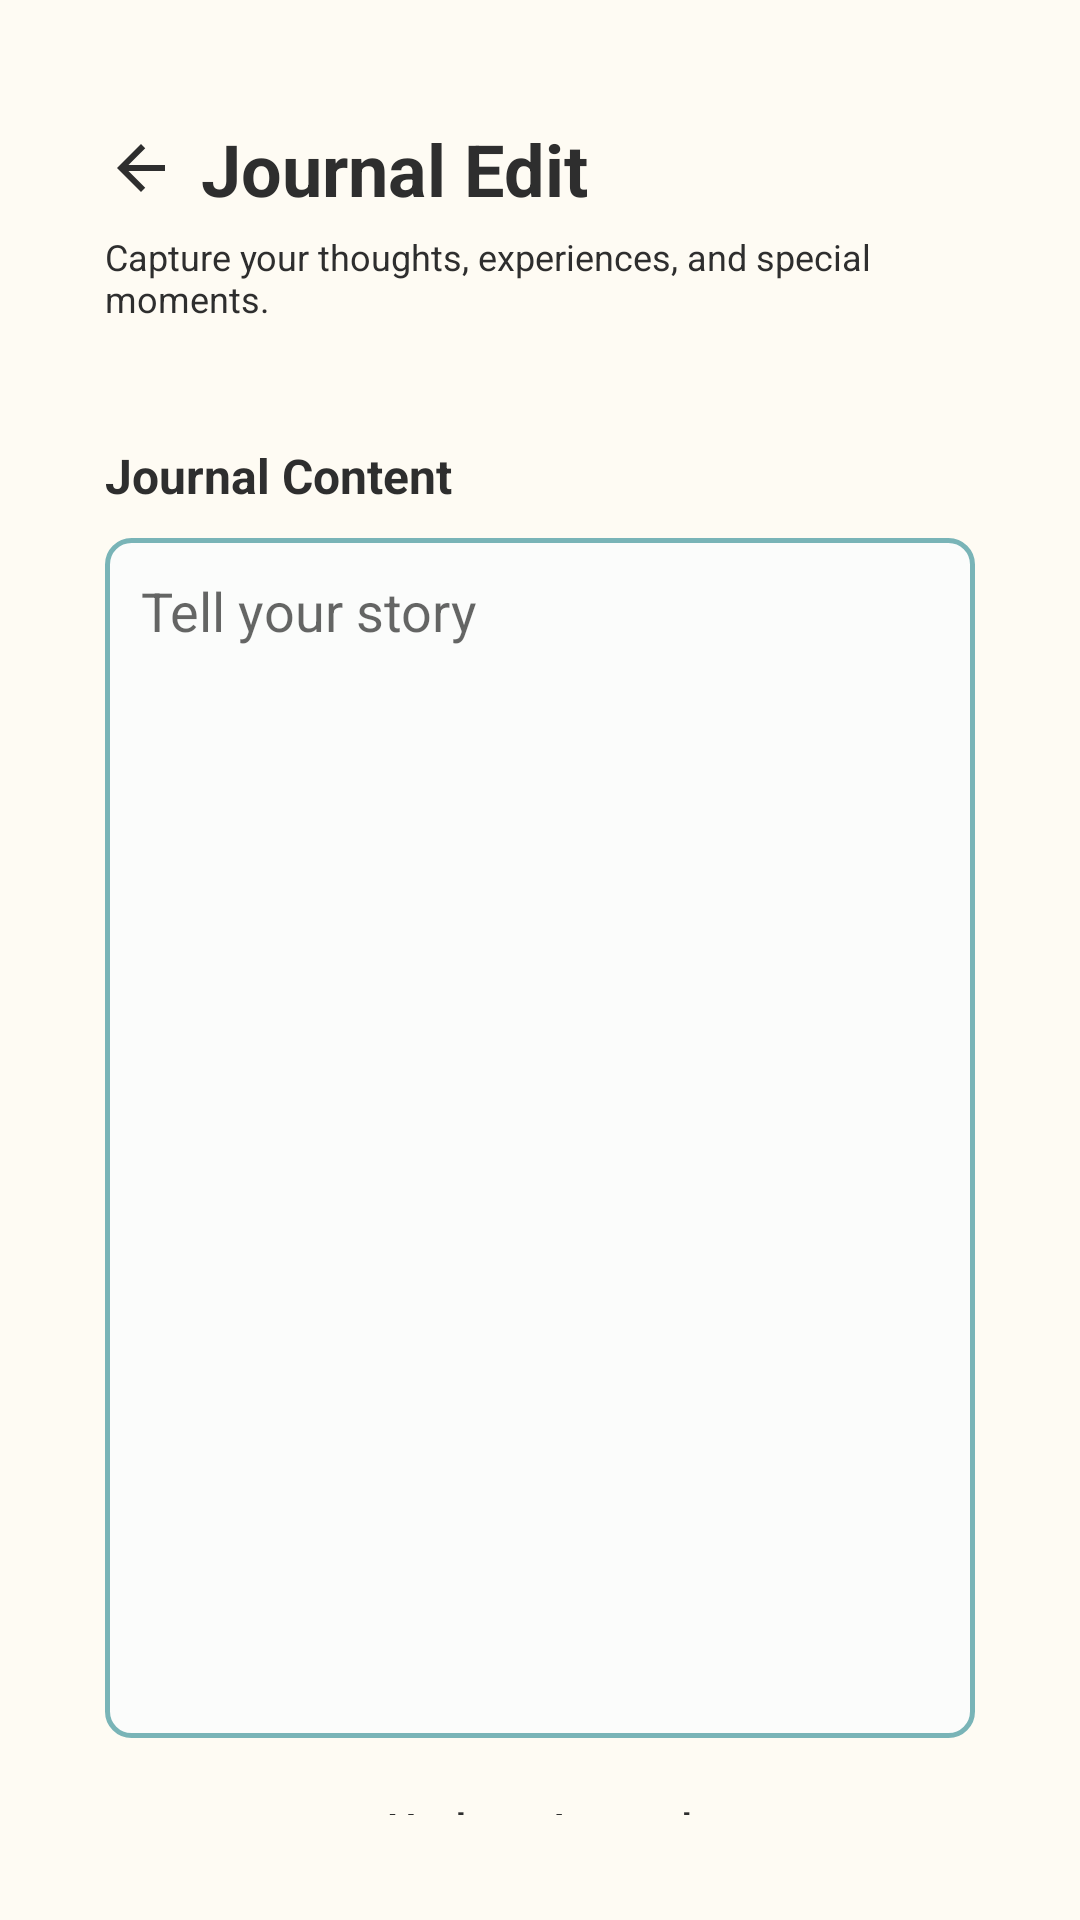

Screen size 1080px×1920px. Icon name, then its box in pixels as region(x1, y1, x2, y2):
back: region(117, 144, 165, 192)
